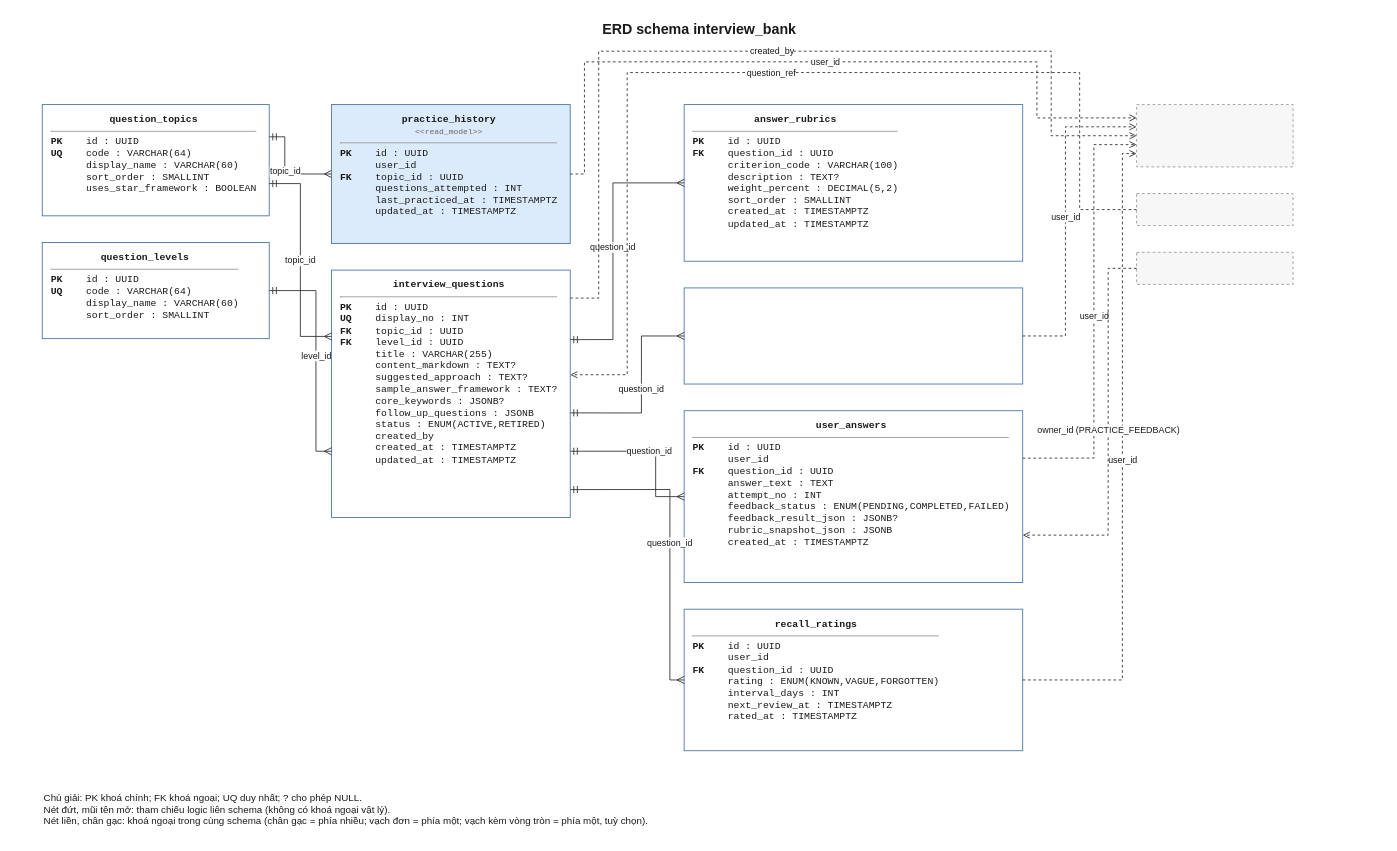
The diagram is 1397 pixels wide and 851 high, and some of its shapes have lost their labels. The centre of each missing label's shape, as x and y in pixels:
ai.interview_sessions: [1214,209]
ai.token_usage: [1214,267]
bookmarks PK id : UUID user_id FK question_id : UUID created_at : TIMESTAMPTZ: [853,335]
identity.users: [1214,135]
